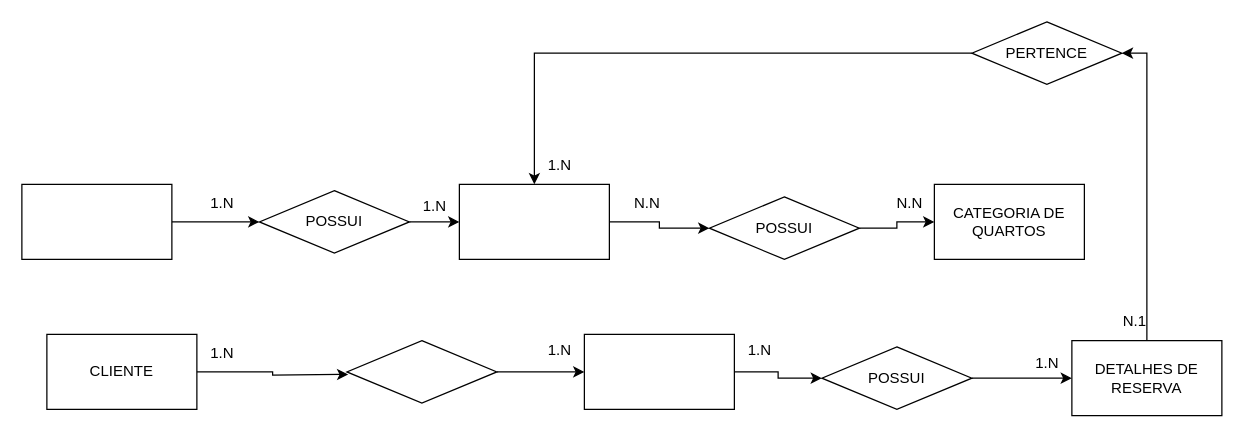
Some shapes in this 1244 by 438 pixel diagram are drawn without their labels. The box of each missing label's shape, as (x1, y1, x2, y2) in pixels:
FAZ: (346, 339, 497, 403)
HOTEL: (21, 183, 172, 259)
QUARTO: (458, 183, 609, 259)
RESEVA: (583, 333, 734, 409)
